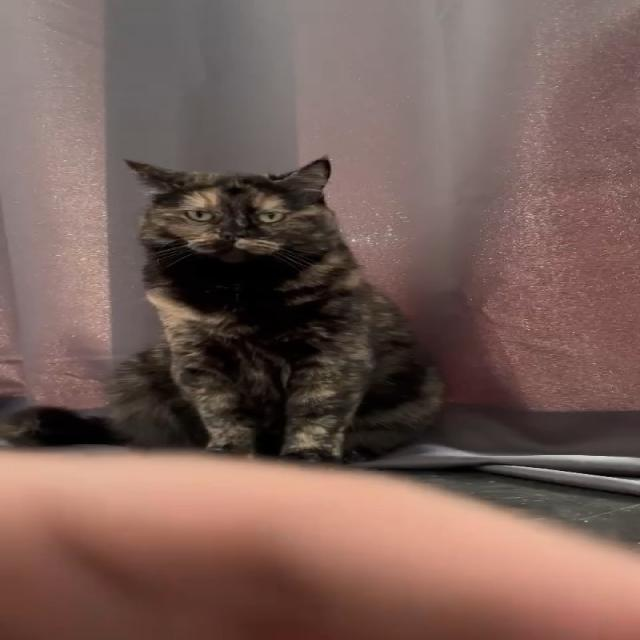authorized: (4, 153, 447, 464)
